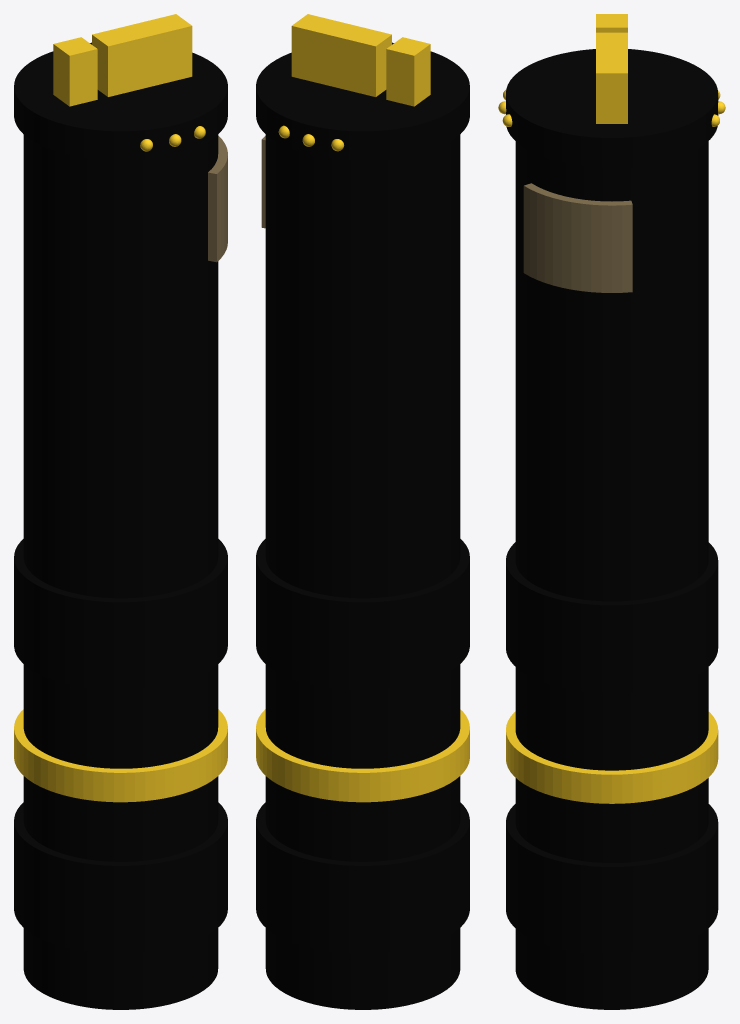
Rendered from Credstick gold.fbx.
3 views of the same model, side by side, from view 1: azimuth 30°, elevation 25°; view 2: azimuth 150°, elevation 25°; view 3: azimuth 270°, elevation 25° (orthographic).
Visible parts, largest first — view 1: Cylinder.003, Cylinder.004, Cylinder.002, Cylinder, Cylinder.005, Cube, Cube.001, Cylinder.001; view 2: Cylinder.003, Cylinder.004, Cylinder.002, Cylinder, Cylinder.005, Cube, Cube.001; view 3: Cylinder.003, Cylinder.002, Cylinder.004, Cylinder, Cylinder.001, Cylinder.005, Cube, Cube.001.
Part boxes in pixels (bbox=[...]): Cylinder.003: bbox=[23, 134, 218, 1009]; Cylinder.004: bbox=[14, 539, 227, 690]; Cylinder.002: bbox=[14, 802, 227, 954]; Cylinder: bbox=[14, 42, 227, 160]; Cylinder.005: bbox=[14, 709, 227, 802]; Cube: bbox=[92, 14, 192, 96]; Cube.001: bbox=[53, 37, 97, 106]; Cylinder.001: bbox=[208, 136, 227, 262]; Cylinder.003: bbox=[265, 134, 460, 1009]; Cylinder.004: bbox=[256, 539, 469, 690]; Cylinder.002: bbox=[256, 802, 469, 954]; Cylinder: bbox=[256, 42, 469, 160]; Cylinder.005: bbox=[256, 709, 469, 802]; Cube: bbox=[291, 14, 391, 96]; Cube.001: bbox=[386, 37, 430, 106]; Cylinder.003: bbox=[515, 141, 708, 1009]; Cylinder.002: bbox=[506, 804, 718, 954]; Cylinder.004: bbox=[506, 542, 718, 692]; Cylinder: bbox=[506, 49, 718, 167]; Cylinder.001: bbox=[523, 183, 632, 292]; Cylinder.005: bbox=[506, 711, 718, 803]; Cube: bbox=[596, 32, 627, 123]; Cube.001: bbox=[596, 14, 627, 32].
Size of the model in its own units: 3.3 by 15.88 by 3.53.
